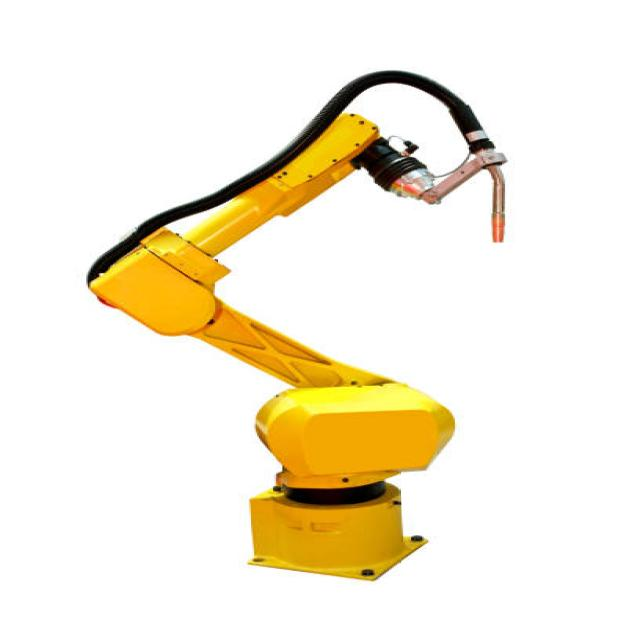Robotic-arm: (68, 80, 513, 590)
